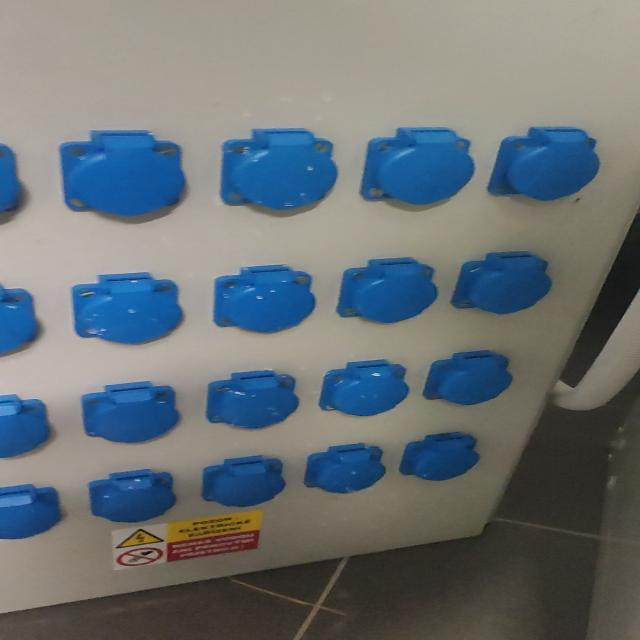house plug covered: (58, 130, 187, 216), (219, 128, 339, 210), (359, 127, 476, 205), (488, 126, 601, 202), (71, 272, 184, 345), (211, 266, 313, 334), (80, 381, 180, 443), (453, 254, 551, 317), (339, 260, 431, 324), (207, 373, 299, 432), (87, 469, 176, 522), (322, 363, 406, 416), (201, 455, 286, 507), (426, 355, 508, 408), (303, 443, 386, 493), (399, 433, 480, 483), (0, 484, 62, 540), (0, 394, 52, 459), (0, 285, 44, 360)
